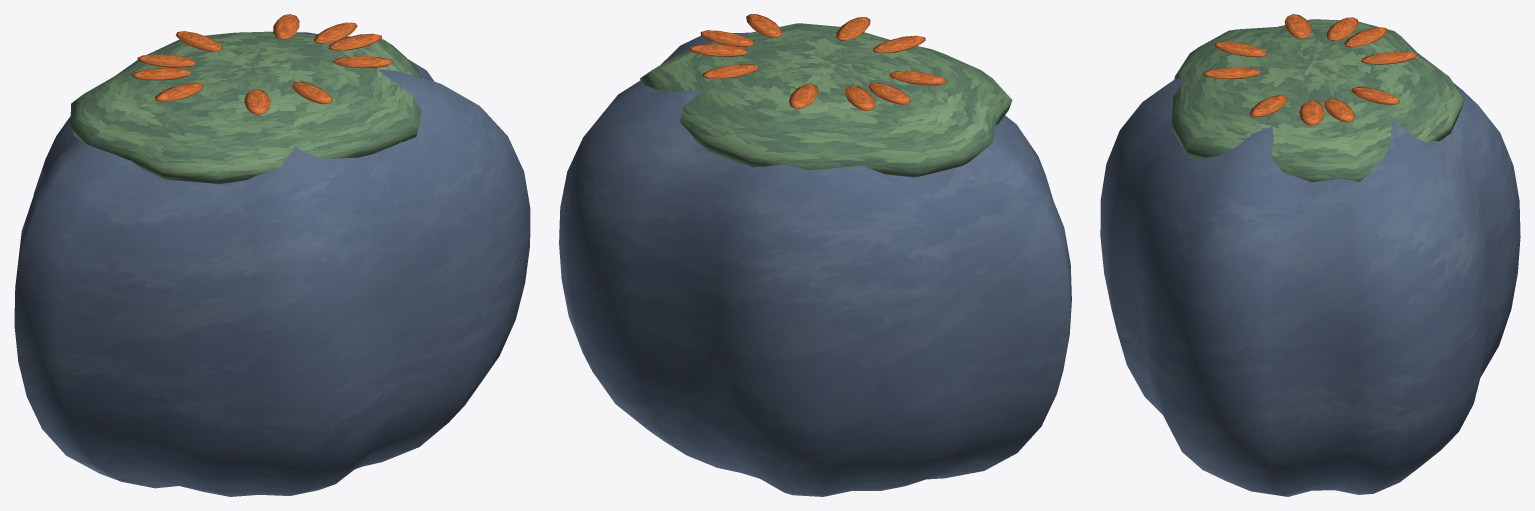
File: rock_1.glb
3 renders of one model, left to right at view 1: azimuth 30°, elevation 25°; view 2: azimuth 150°, elevation 25°; view 3: azimuth 270°, elevation 25°, orthographic. The views are drawn at different scales.
Visible parts, largest first — view 1: rock_1; view 2: rock_1; view 3: rock_1.
Part boxes in pixels (left/top/right/bottom): rock_1: left=14, top=14, right=530, bottom=496; rock_1: left=559, top=14, right=1071, bottom=496; rock_1: left=1100, top=14, right=1520, bottom=496.
Bounding box in the file's own units: 2.29 × 1.86 × 1.83.
Materials: 1 (1 with a texture image).
